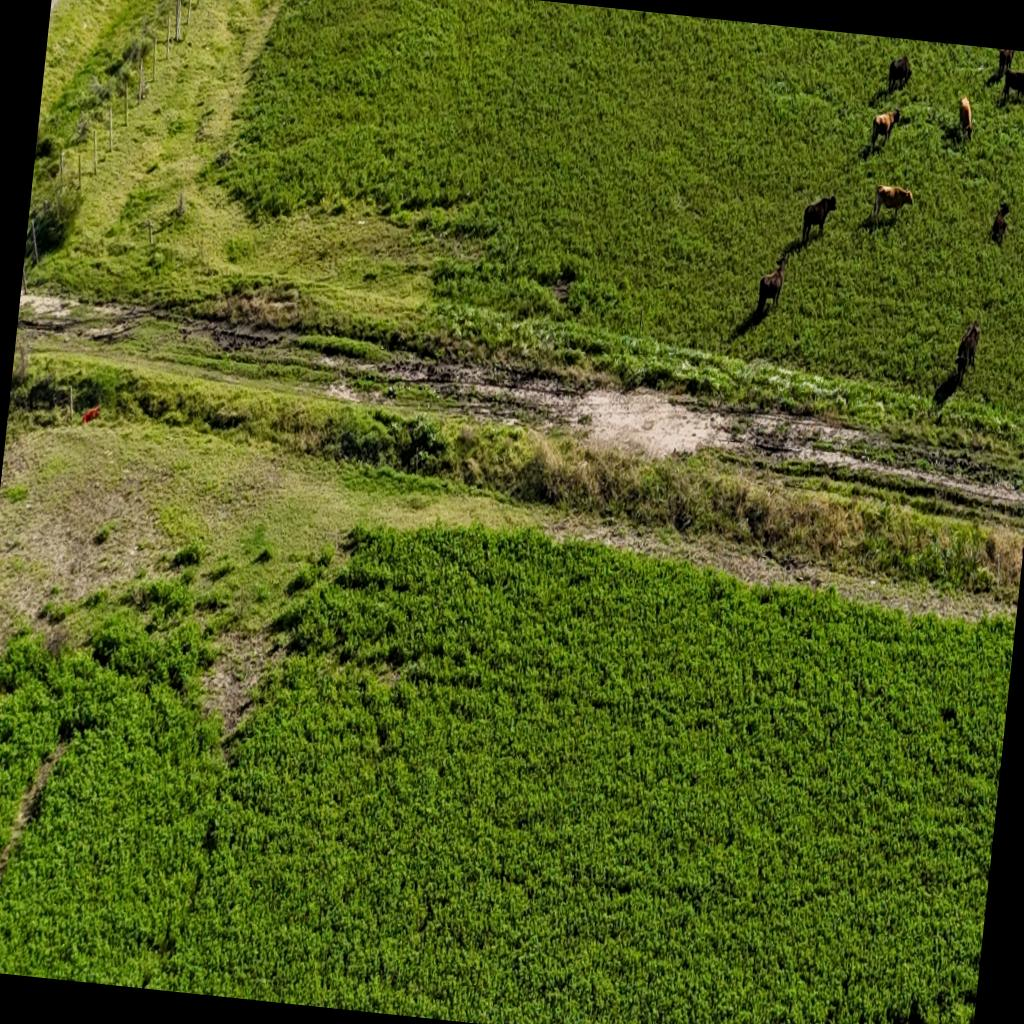cow: (868, 180, 916, 232), (800, 192, 838, 248), (928, 360, 966, 416), (952, 318, 980, 386), (757, 252, 787, 314), (868, 104, 900, 155), (886, 52, 913, 94), (954, 94, 976, 144), (988, 198, 1010, 246), (1001, 66, 1024, 107), (994, 48, 1016, 82)
